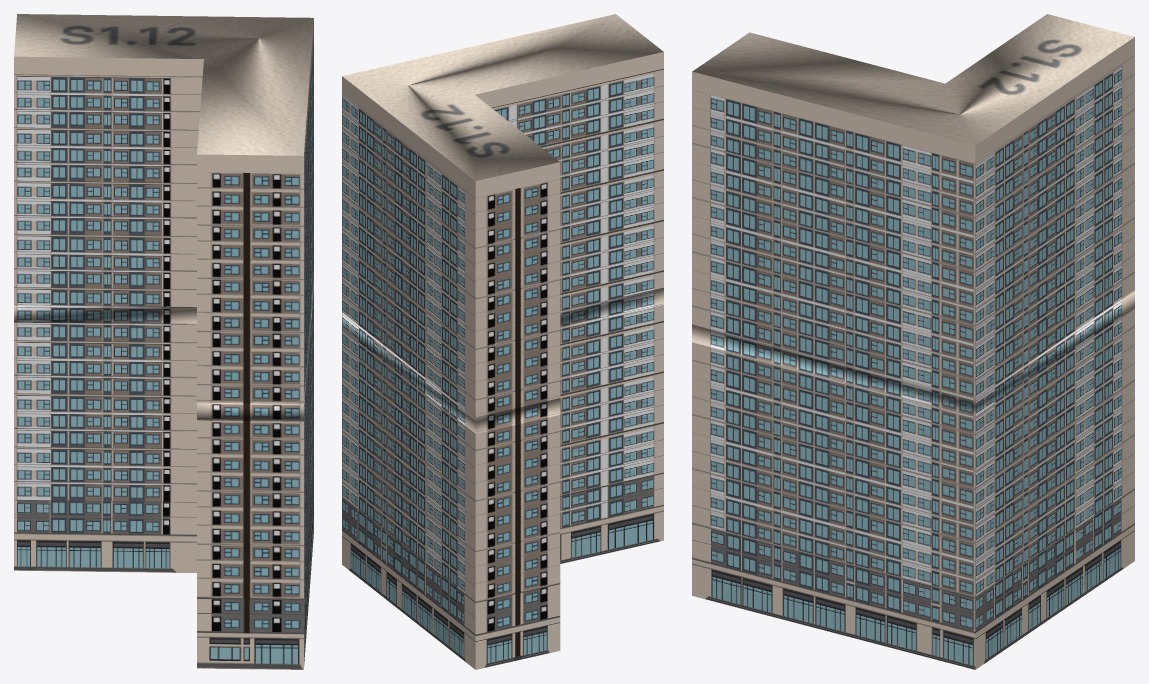
The picture shows the model from 3 angles, left to right: view 1: azimuth 30°, elevation 25°; view 2: azimuth 150°, elevation 25°; view 3: azimuth 270°, elevation 25°; orthographic projection. The views are drawn at different scales.
Visible parts, largest first — view 1: Asset3DLoader.sceneRoot; view 2: Asset3DLoader.sceneRoot; view 3: Asset3DLoader.sceneRoot.
Part boxes in pixels (left/top/right/bottom): Asset3DLoader.sceneRoot: left=14, top=14, right=313, bottom=669; Asset3DLoader.sceneRoot: left=342, top=14, right=663, bottom=669; Asset3DLoader.sceneRoot: left=692, top=14, right=1134, bottom=669.
Size of the model in its own units: 51.46 by 95.5 by 73.08.
1 material, 1 textured.
